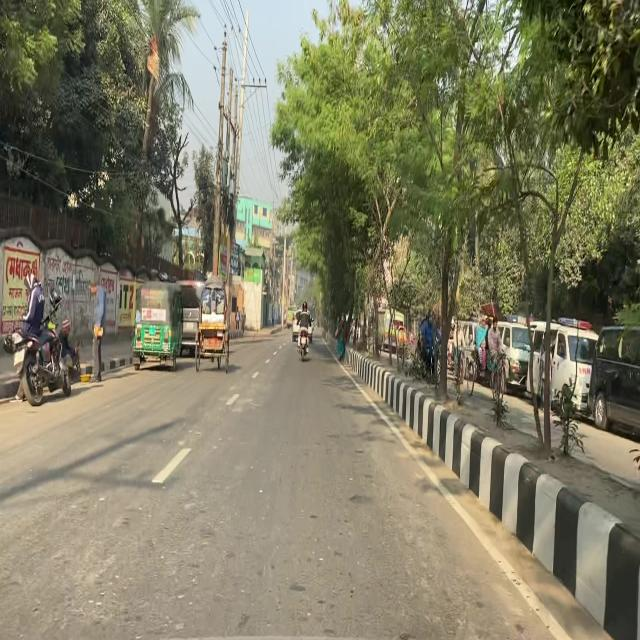car: (526, 318, 604, 424), (587, 321, 640, 446), (478, 314, 542, 395), (171, 278, 214, 359), (291, 307, 315, 345)
motorbike: (3, 287, 71, 407), (296, 317, 315, 362)
